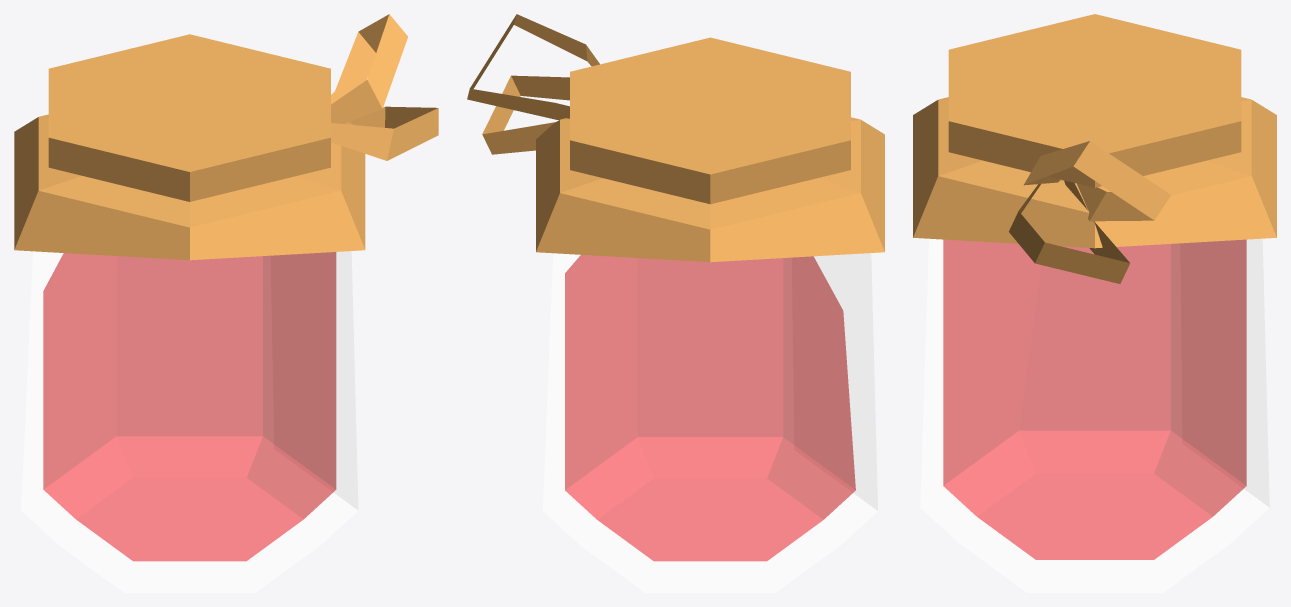
File: JamJam_jar.glb
3 views of the same model, side by side, from view 1: azimuth 30°, elevation 25°; view 2: azimuth 150°, elevation 25°; view 3: azimuth 270°, elevation 25° (orthographic). The views are drawn at different scales.
Parts seen in each view (by area): view 1: jar, jam, lid; view 2: jar, jam, lid; view 3: jar, jam, lid.
Boxes of the visible parts, left/top/right/bottom form: jar: left=21, top=251, right=358, bottom=592; jam: left=43, top=252, right=336, bottom=561; lid: left=14, top=14, right=438, bottom=260; jar: left=543, top=253, right=877, bottom=592; jam: left=565, top=255, right=855, bottom=561; lid: left=467, top=14, right=884, bottom=262; jar: left=920, top=238, right=1269, bottom=592; jam: left=943, top=239, right=1246, bottom=559; lid: left=913, top=14, right=1276, bottom=283.
Bounding box in the file's own units: 15.07 × 17.43 × 11.44.
